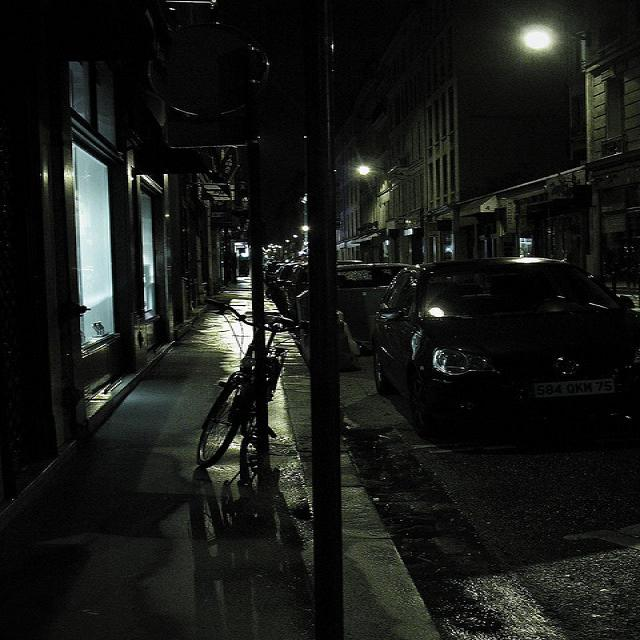Bicycle: (84, 312, 337, 544)
car: (390, 247, 640, 420), (336, 249, 432, 336)
